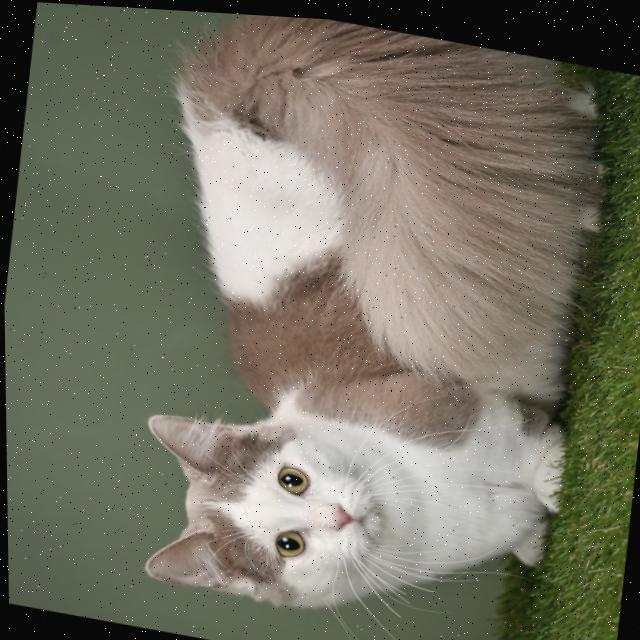Munchkin: (100, 5, 631, 640)
